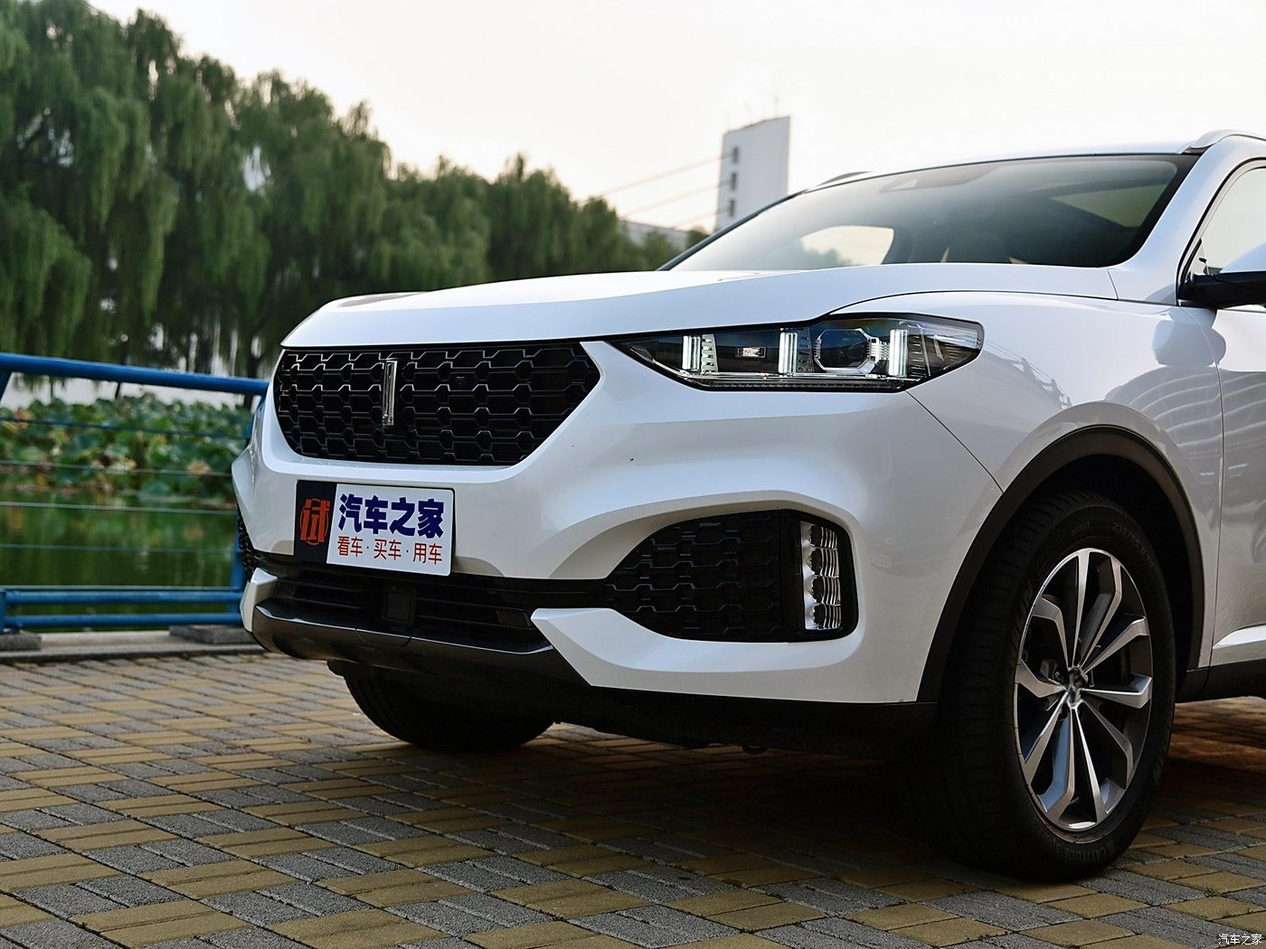WEY: (383, 362, 395, 424)
